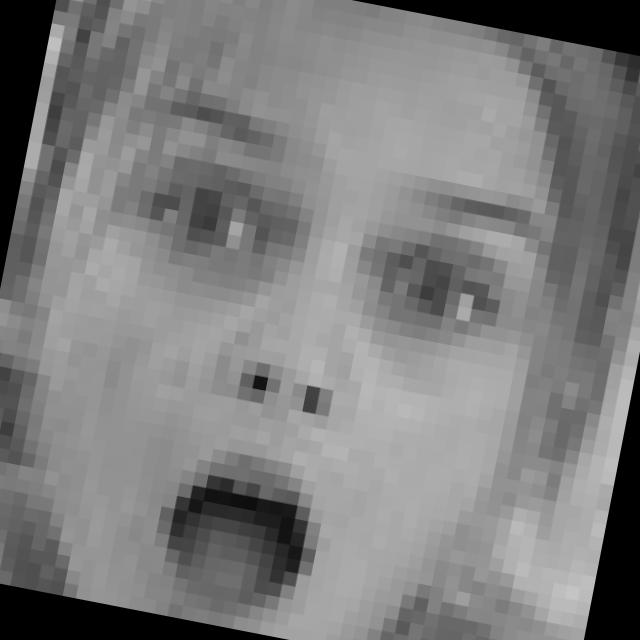surprise: (28, 76, 561, 640)
